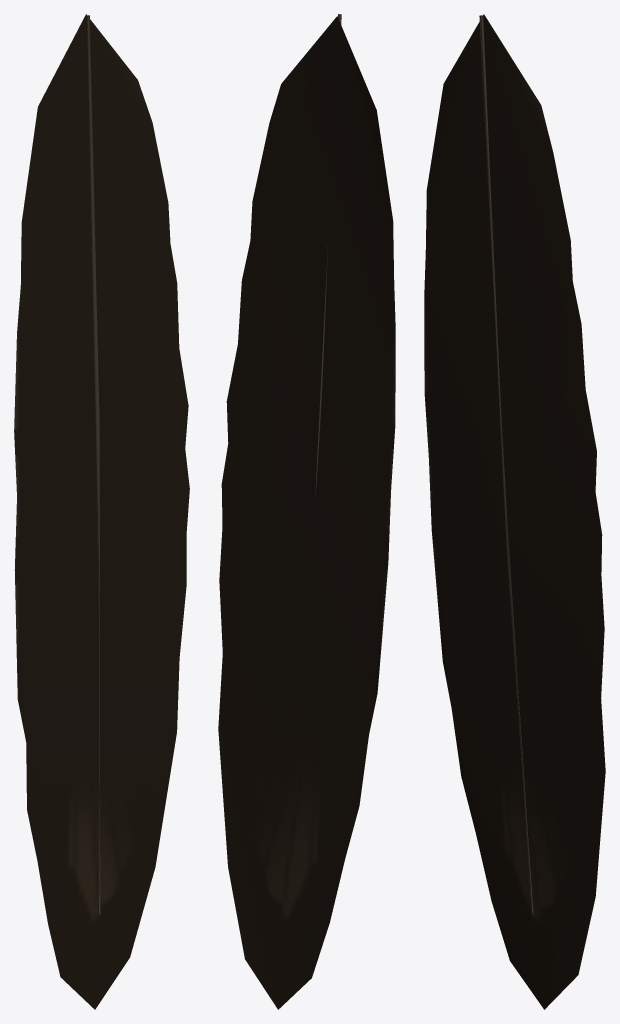
The model's file is bird_rectrix_06.obj.
3 renders of one model, left to right at view 1: azimuth 30°, elevation 25°; view 2: azimuth 150°, elevation 25°; view 3: azimuth 330°, elevation 25°, orthographic. The views are drawn at different scales.
Visible parts, largest first — view 1: PIECE_BIRD_RECTRIX_RIG_06; view 2: PIECE_BIRD_RECTRIX_RIG_06; view 3: PIECE_BIRD_RECTRIX_RIG_06.
Part boxes in pixels (x1,y1,x2,y2): PIECE_BIRD_RECTRIX_RIG_06: [14, 14, 189, 1009]; PIECE_BIRD_RECTRIX_RIG_06: [218, 14, 395, 1009]; PIECE_BIRD_RECTRIX_RIG_06: [424, 14, 605, 1009].
Bounding box in the file's own units: 0.0343 × 0.1885 × 0.00974.
1 material, 1 textured.
